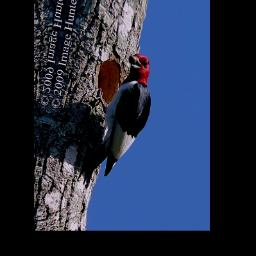Woodpecker: (72, 34, 162, 202)
